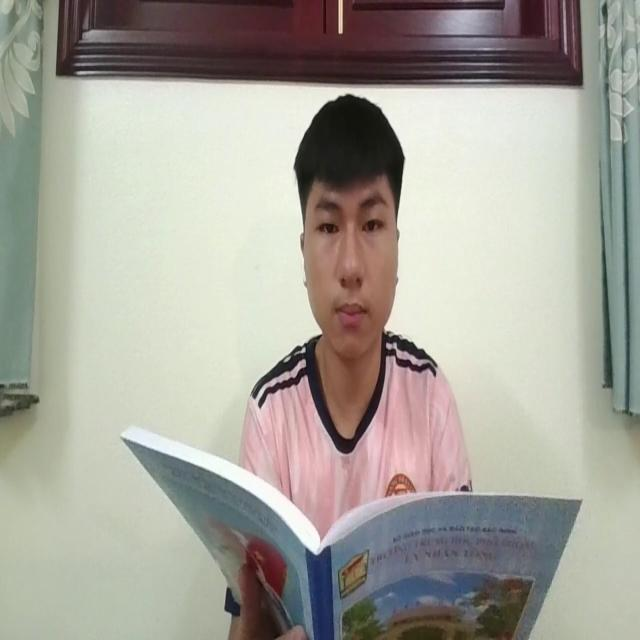book: (121, 417, 580, 640)
student: (236, 92, 478, 500)
